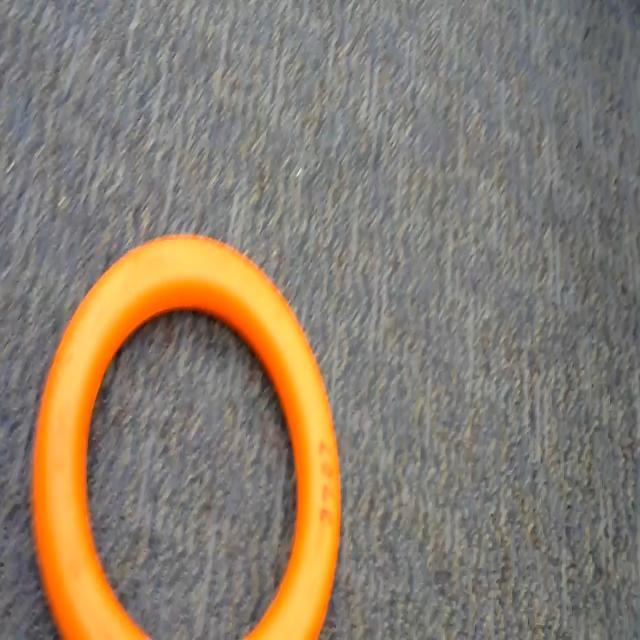note: (33, 221, 338, 640)
